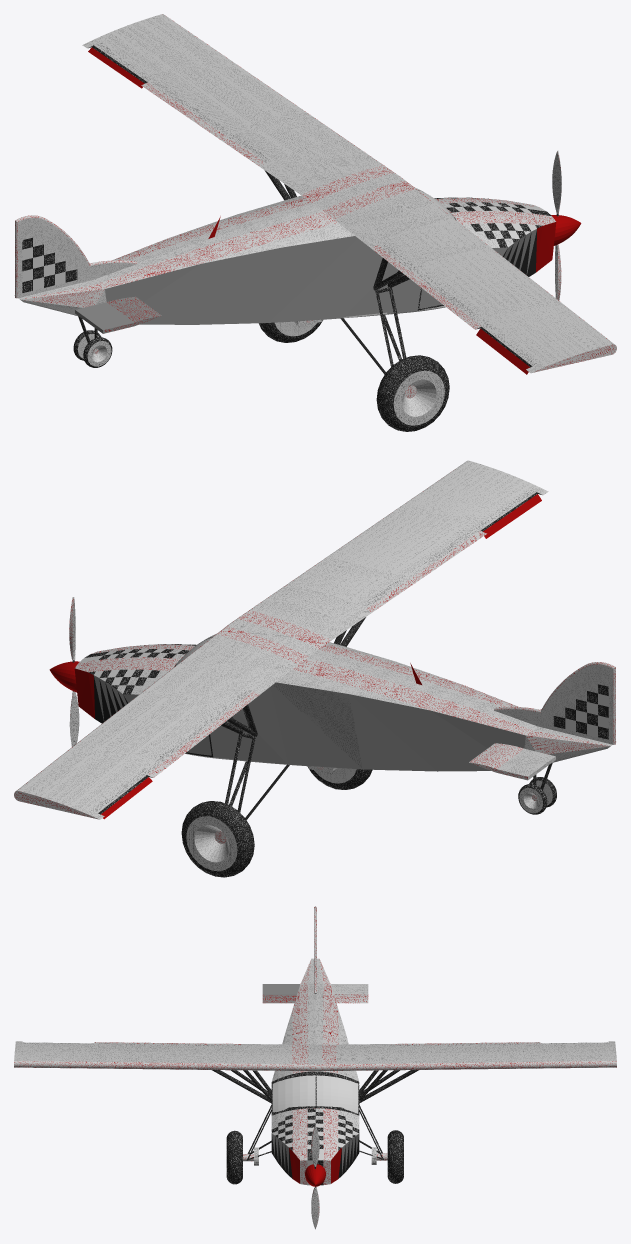
3 views of the same model, one above another, from view 1: azimuth 30°, elevation 25°; view 2: azimuth 150°, elevation 25°; view 3: azimuth 270°, elevation 25° (orthographic). The views are drawn at different scales.
Visible parts, largest first — view 1: mesh36_mesh36-geometry, mesh35_mesh35-geometry, mesh20.001_mesh20-geometry, mesh6.001_mesh6-geometry, mesh27.001_mesh27-geometry, mesh19.001_mesh19-geometry, mesh12.001_mesh12-geometry; view 2: mesh36_mesh36-geometry, mesh35_mesh35-geometry, mesh12.001_mesh12-geometry, mesh2.001_mesh2-geometry, mesh20.001_mesh20-geometry, mesh27.001_mesh27-geometry, mesh11.001_mesh11-geometry; view 3: mesh36_mesh36-geometry, mesh35_mesh35-geometry, mesh12.001_mesh12-geometry, mesh20.001_mesh20-geometry, mesh37_mesh37-geometry.
Boxes of the visible parts, x1,y1,x2,y2 form: mesh36_mesh36-geometry: (82, 14, 616, 374); mesh35_mesh35-geometry: (14, 187, 556, 333); mesh20.001_mesh20-geometry: (376, 355, 449, 431); mesh6.001_mesh6-geometry: (22, 237, 77, 292); mesh27.001_mesh27-geometry: (73, 330, 112, 367); mesh19.001_mesh19-geometry: (340, 287, 406, 374); mesh12.001_mesh12-geometry: (259, 319, 322, 342); mesh36_mesh36-geometry: (14, 460, 548, 819); mesh35_mesh35-geometry: (74, 634, 616, 780); mesh12.001_mesh12-geometry: (181, 801, 254, 877); mesh2.001_mesh2-geometry: (553, 684, 608, 739); mesh20.001_mesh20-geometry: (307, 766, 372, 789); mesh27.001_mesh27-geometry: (518, 777, 556, 814); mesh11.001_mesh11-geometry: (225, 733, 289, 819); mesh36_mesh36-geometry: (14, 1041, 616, 1103); mesh35_mesh35-geometry: (262, 906, 368, 1185); mesh12.001_mesh12-geometry: (371, 1130, 403, 1183); mesh20.001_mesh20-geometry: (226, 1130, 258, 1184); mesh37_mesh37-geometry: (359, 1070, 418, 1103).
Bounding box in the file's own units: 0.5696 × 0.2397 × 0.7862.
